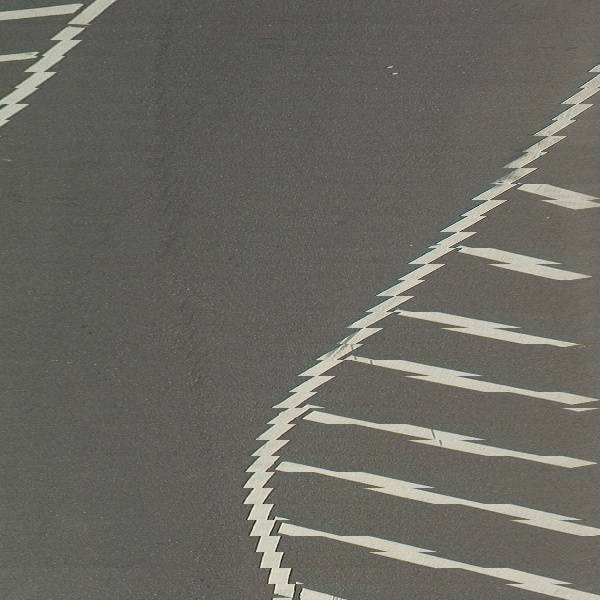road_damage: (151, 50, 201, 385)
